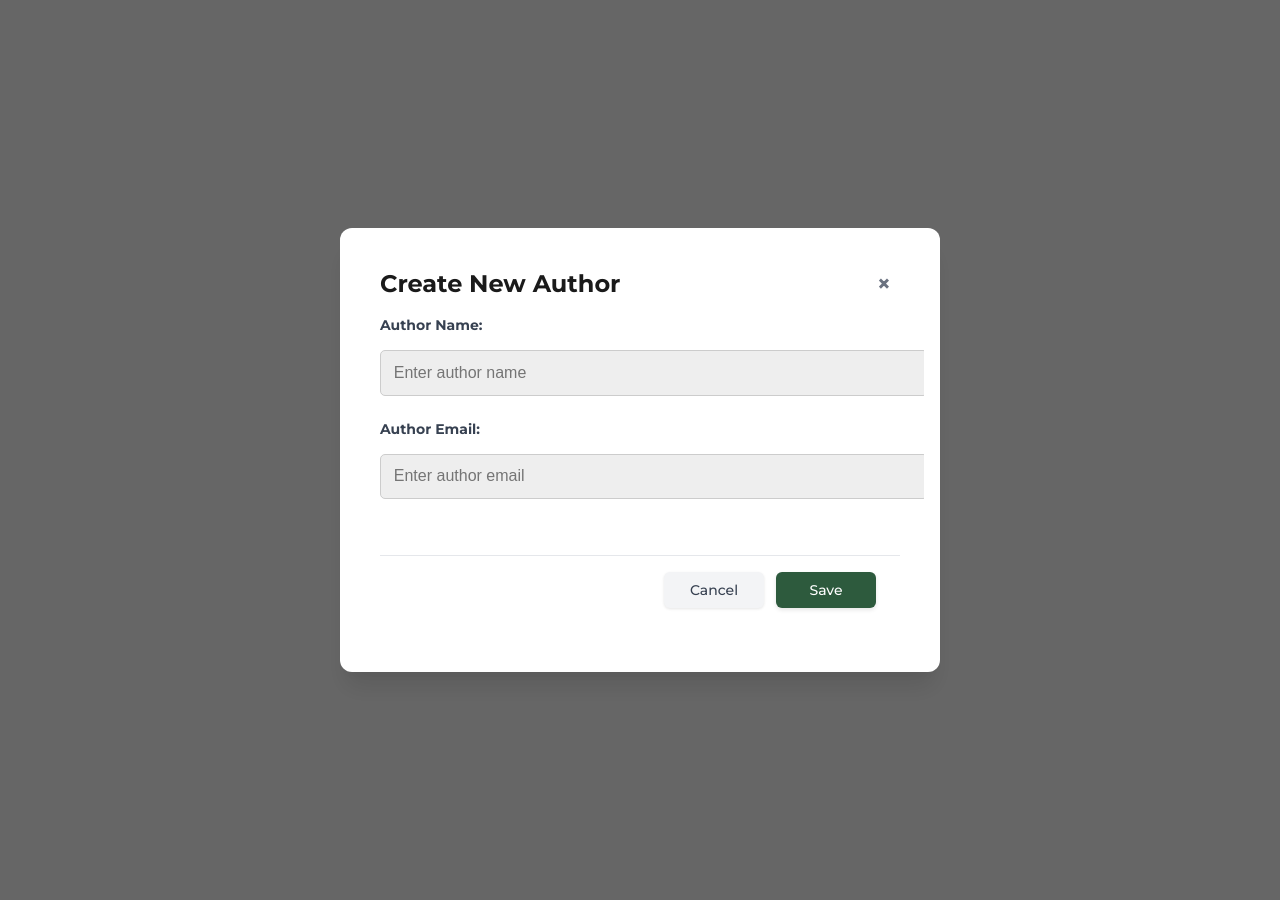
Test: AuthorModal › exibe erro quando nome está vazio
The width and height of the screenshot is (1280, 900).
Click the button "Save": (826, 590) [776,572,876,608]
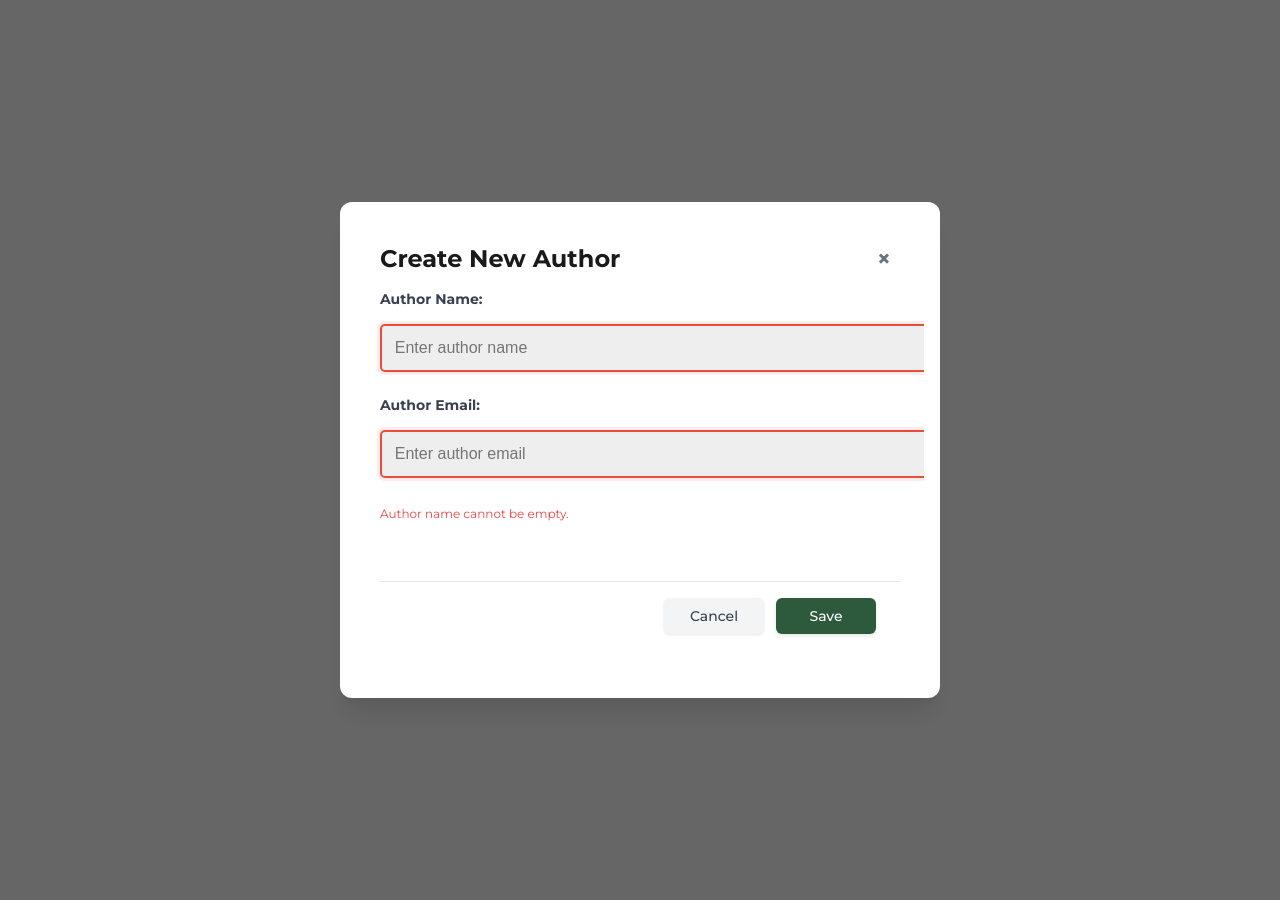
expect the text "Author name cannot be empty." is shown: met, box [380,506,569,521]
